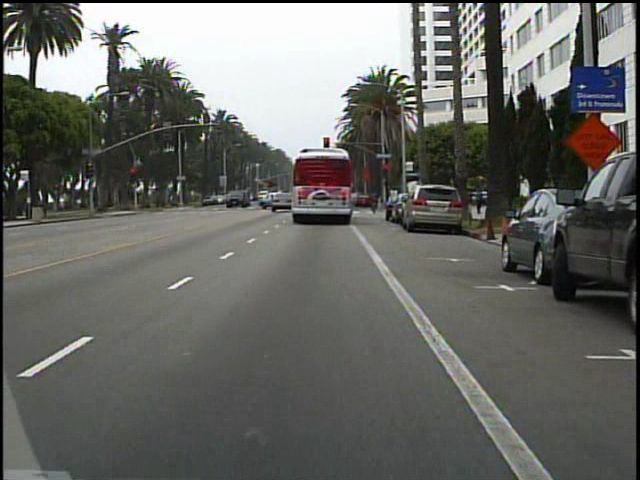person: (472, 185, 485, 216)
